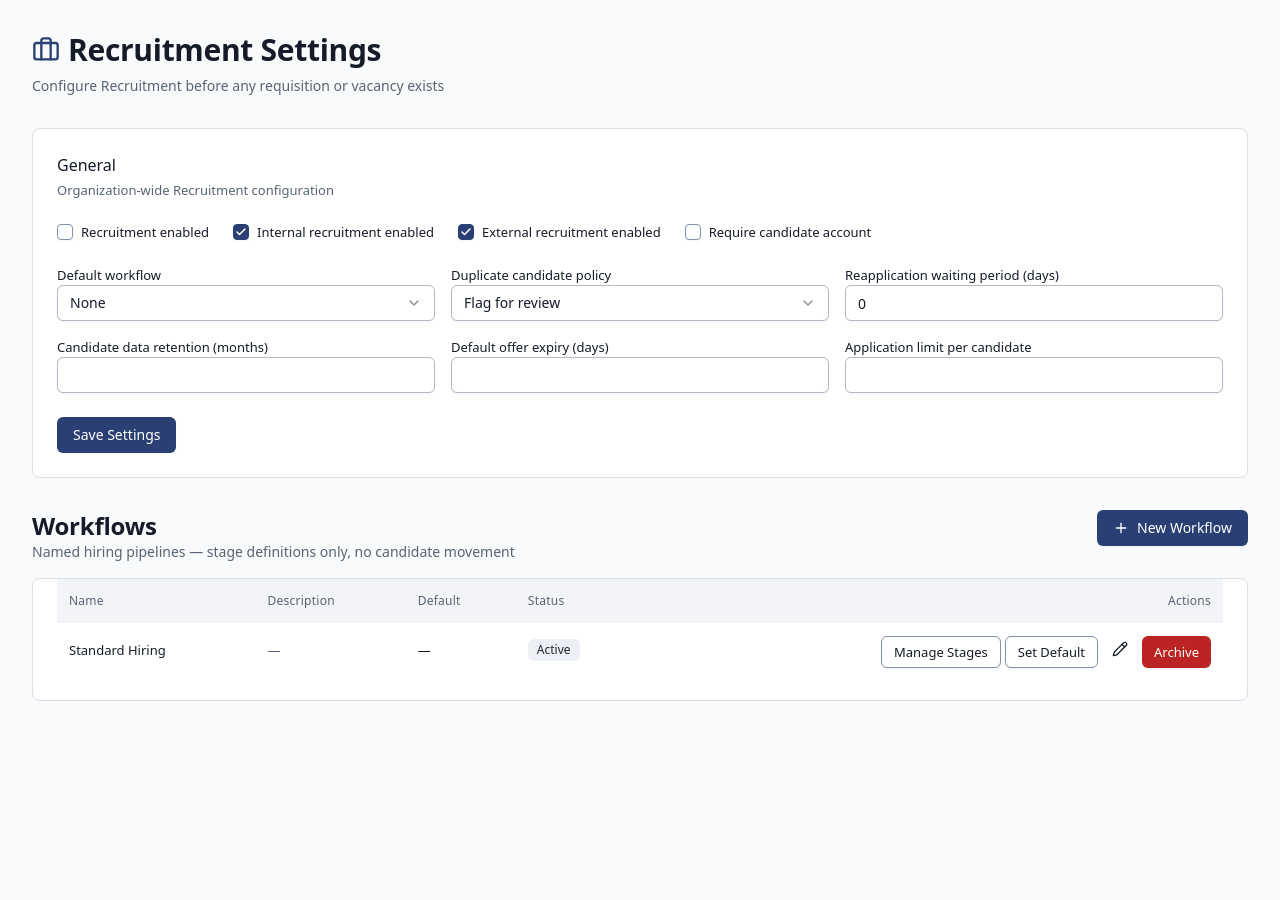
Test case: Recruitment Settings page › archive / reactivate confirmation › confirms before archiving a stage
The width and height of the screenshot is (1280, 900).
What coordinates should you click on to do the following:
click the button with test id "button-manage-stages-1"
I would click on:
 (941, 652)
Its box is [881,636,1001,668].
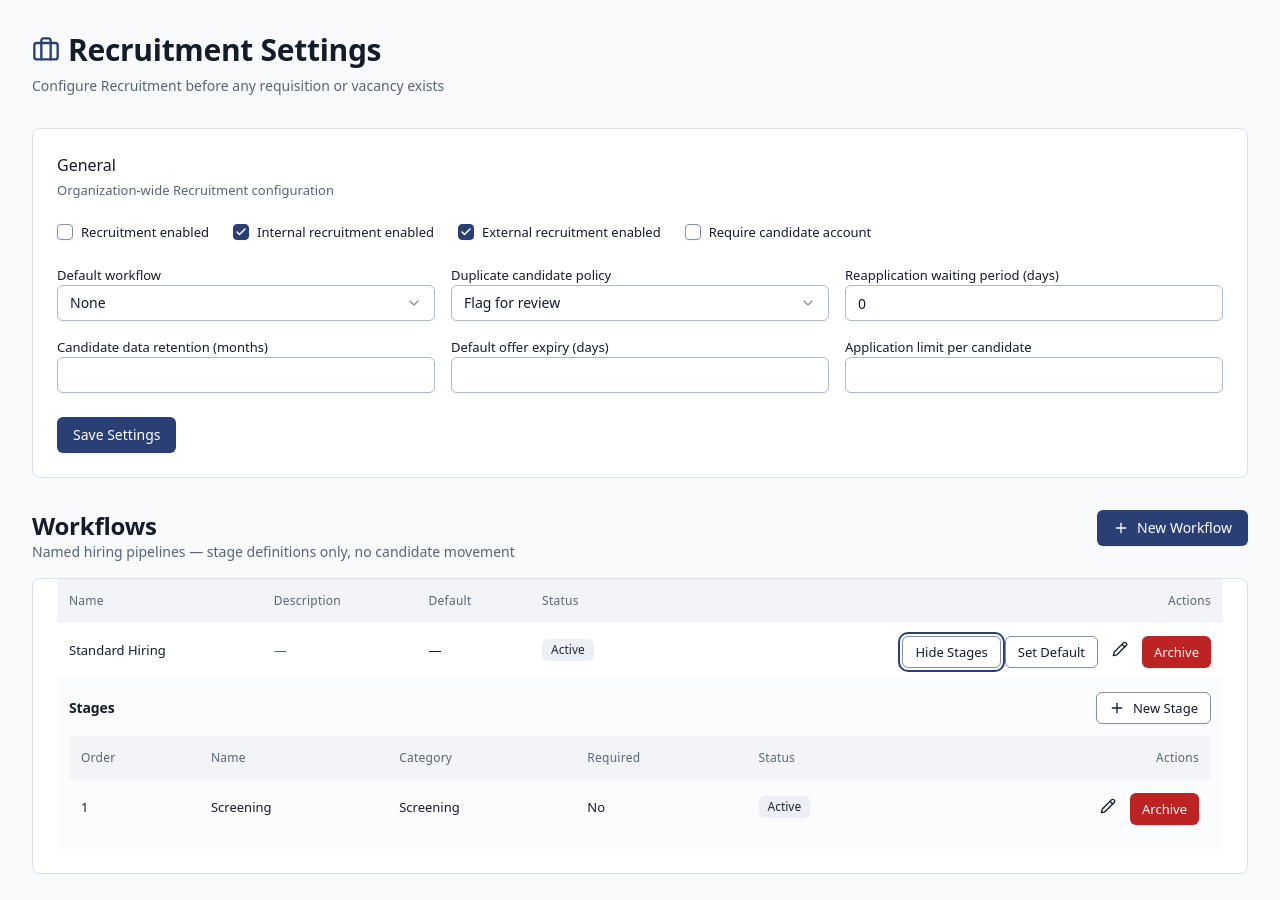
What coordinates should you click on to do the following:
click the button with test id "button-toggle-stage-7"
I would click on:
 (1164, 809)
Its box is [1130,793,1199,825].
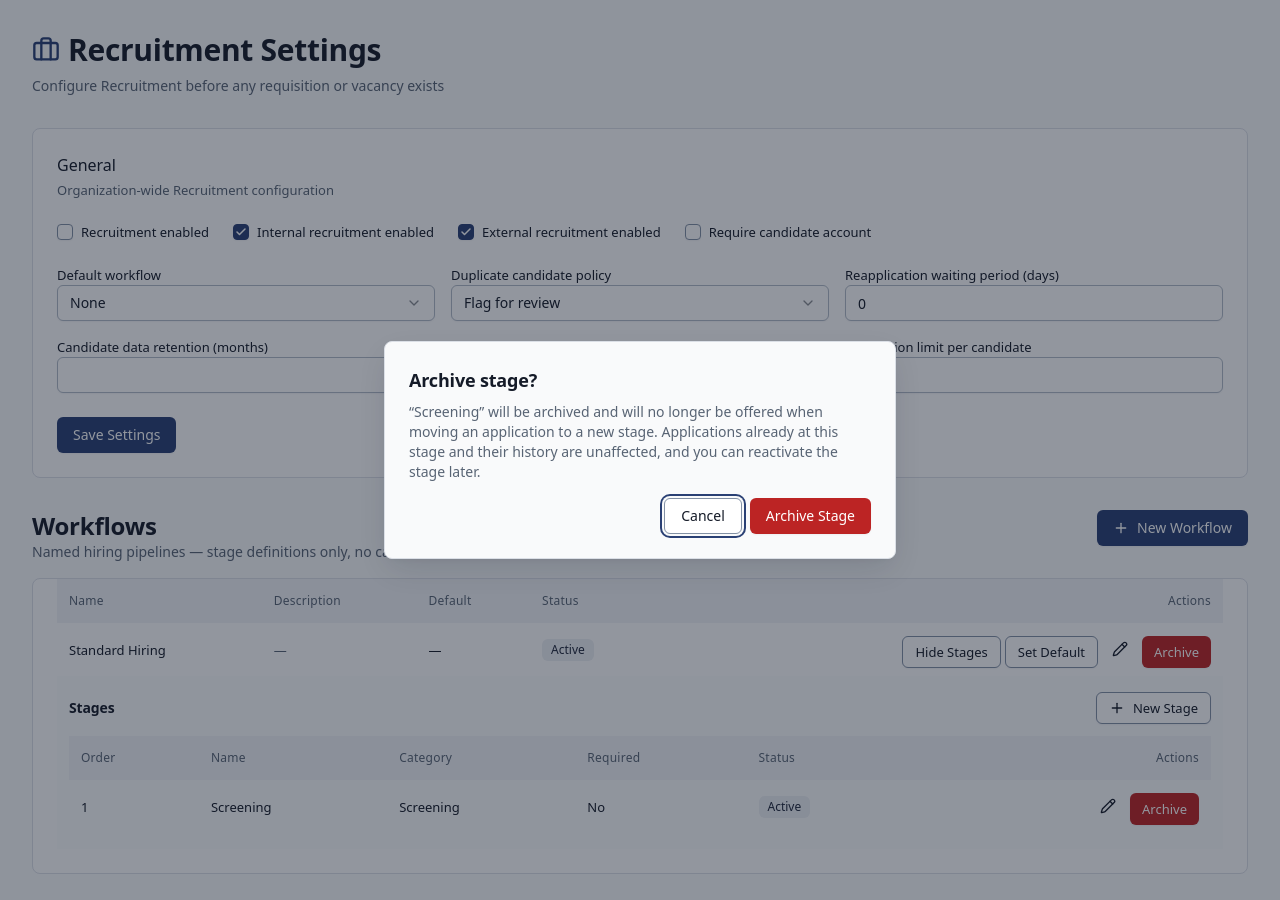
Result: the dialog with test id "dialog-archive-stage" shows "“Screening” will be archived" at [384,341,896,559]
What coordinates should you click on to do the following:
click the button with test id "dialog-archive-stage-confirm"
I would click on:
 (810, 516)
Its box is [750,498,871,534].
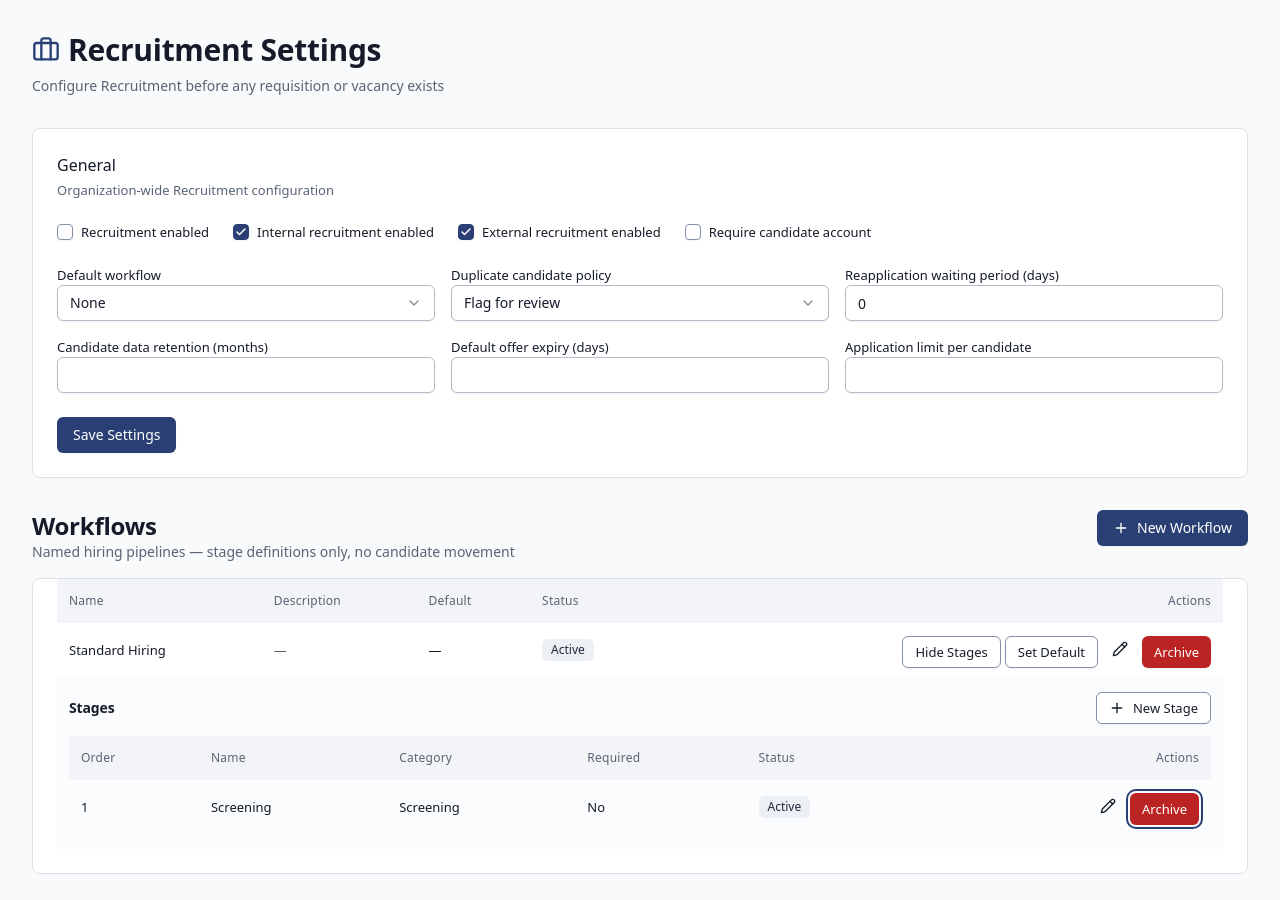
Result: the dialog with test id "dialog-archive-stage" is gone
